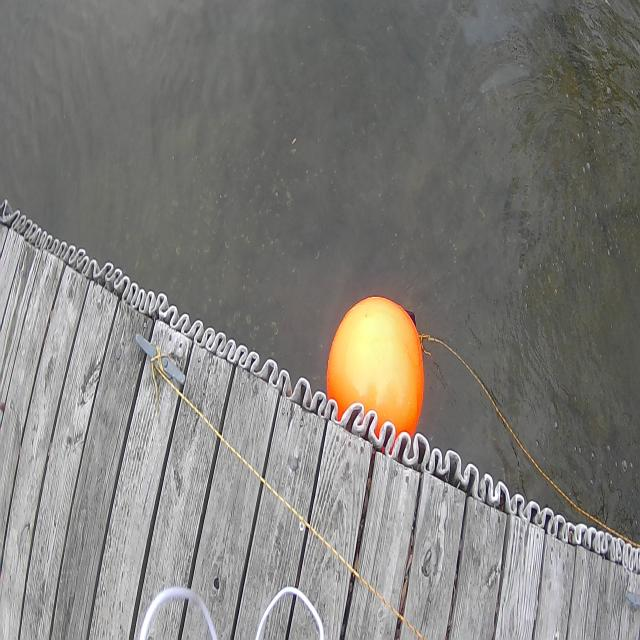Buoy: (319, 283, 432, 449)
